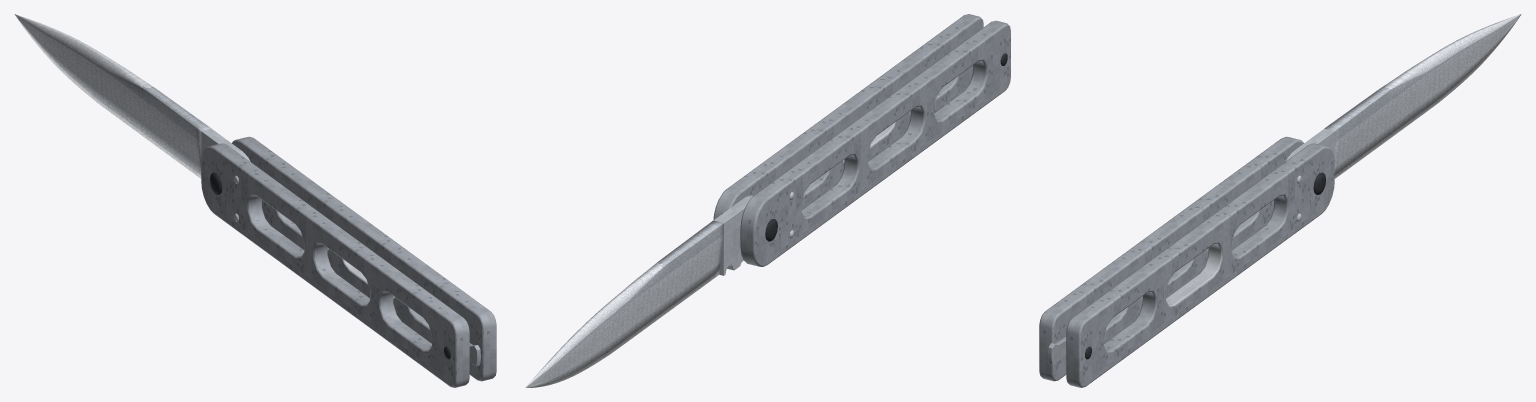
The model's file is w_knife_butterfly.glb.
3 renders of one model, left to right at view 1: azimuth 30°, elevation 25°; view 2: azimuth 150°, elevation 25°; view 3: azimuth 330°, elevation 25°, orthographic.
Visible parts, largest first — view 1: kbfly_bite_wzA, kbfly_safe_wzA, kbfly_blade_wzB; view 2: kbfly_bite_wzA, kbfly_blade_wzB, kbfly_safe_wzA; view 3: kbfly_safe_wzA, kbfly_bite_wzA, kbfly_blade_wzB.
Boxes of the visible parts, bbox=[...] form: kbfly_bite_wzA: bbox=[201, 143, 480, 387]; kbfly_safe_wzA: bbox=[232, 136, 496, 381]; kbfly_blade_wzB: bbox=[14, 14, 250, 178]; kbfly_bite_wzA: bbox=[740, 20, 1010, 266]; kbfly_blade_wzB: bbox=[525, 195, 752, 387]; kbfly_safe_wzA: bbox=[713, 14, 983, 219]; kbfly_safe_wzA: bbox=[1066, 143, 1334, 387]; kbfly_bite_wzA: bbox=[1039, 136, 1303, 381]; kbfly_blade_wzB: bbox=[1285, 14, 1521, 178].
Size of the model in its own units: 0.0143 by 0.019 by 0.242.
7 materials, 7 textured.
